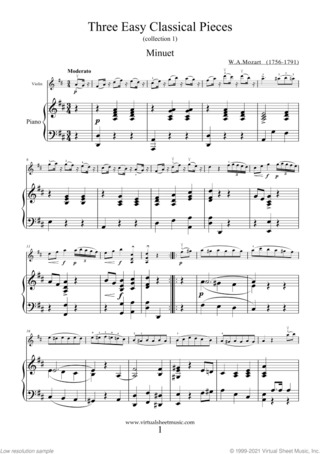Partitura: (19, 15, 306, 432)
